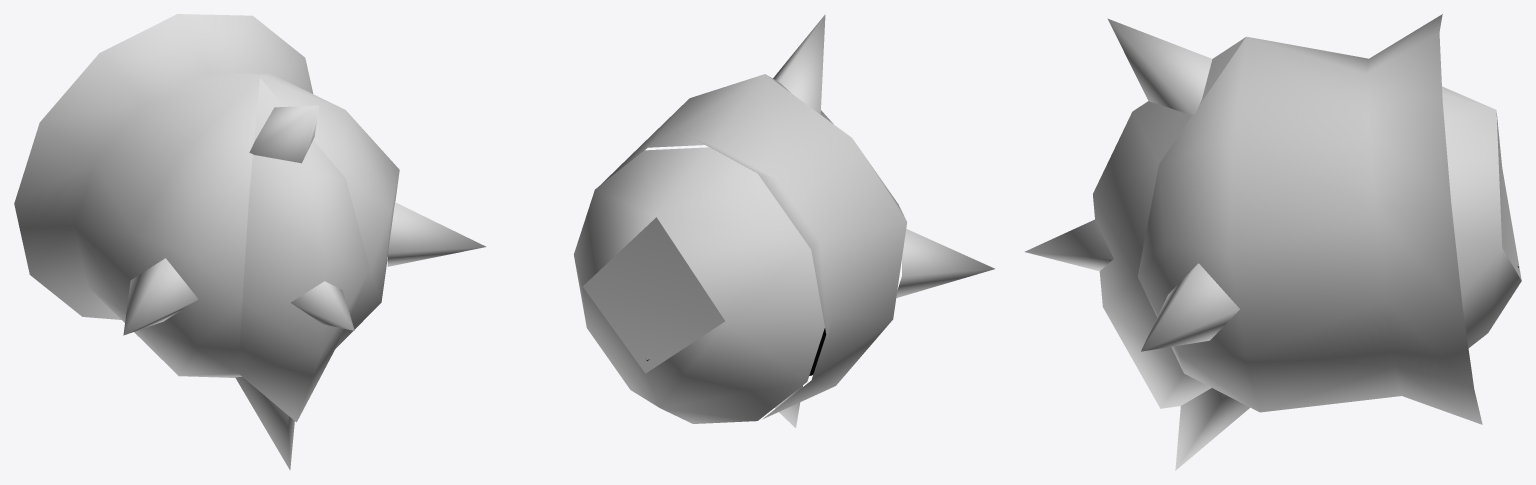
File: model_recolor.glb
3 renders of one model, left to right at view 1: azimuth 30°, elevation 25°; view 2: azimuth 150°, elevation 25°; view 3: azimuth 270°, elevation 25°, orthographic. The views are drawn at different scales.
Parts seen in each view (by area): view 1: pith.model_recolor-Mesh[0]; view 2: pith.model_recolor-Mesh[0]; view 3: pith.model_recolor-Mesh[0].
Part boxes in pixels (bbox=[...]): pith.model_recolor-Mesh[0]: bbox=[14, 14, 486, 470]; pith.model_recolor-Mesh[0]: bbox=[573, 14, 994, 427]; pith.model_recolor-Mesh[0]: bbox=[1024, 14, 1521, 470].
Size of the model in its own units: 0.6148 by 0.6251 by 0.6229.
2 materials, 1 textured.
